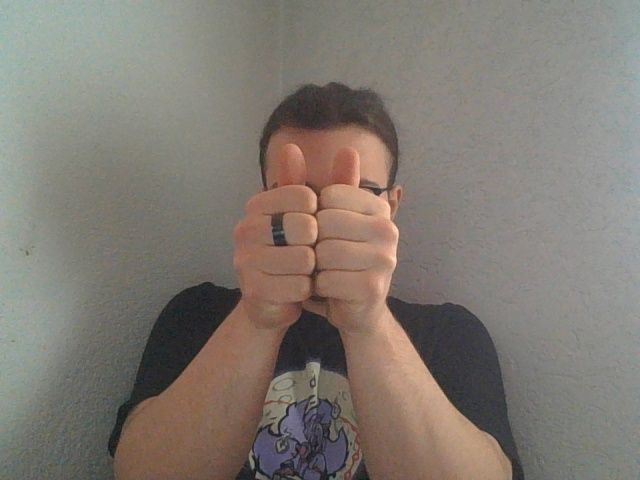Agree: (230, 142, 402, 326)
